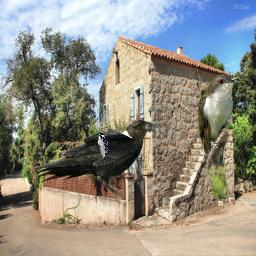Crow: (31, 118, 160, 198)
Cuckoo: (198, 70, 241, 199)
Woodpecker: (96, 133, 108, 162)
